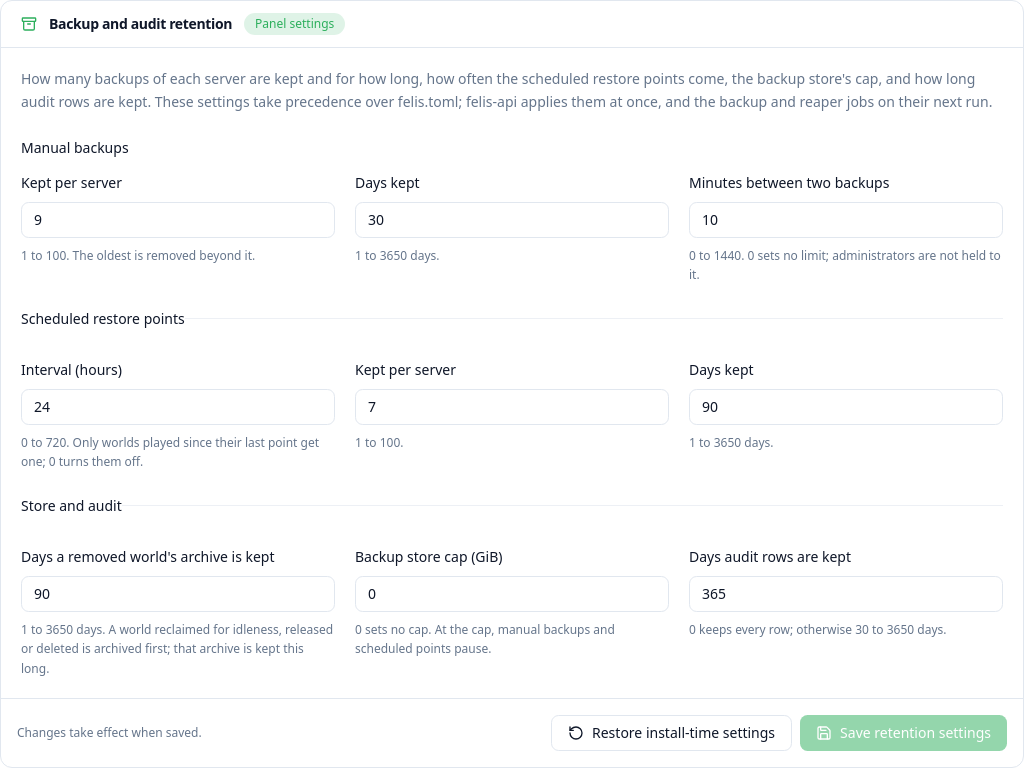
Test: retention settings › hands the retention back to felis.toml after confirming
Expected: the 1st number field labelled "Kept per server" holds "9", [21,202,335,238]
Click the button "Restore install-time settings" at (672, 733), box [551,715,792,751]
(page scrolled)
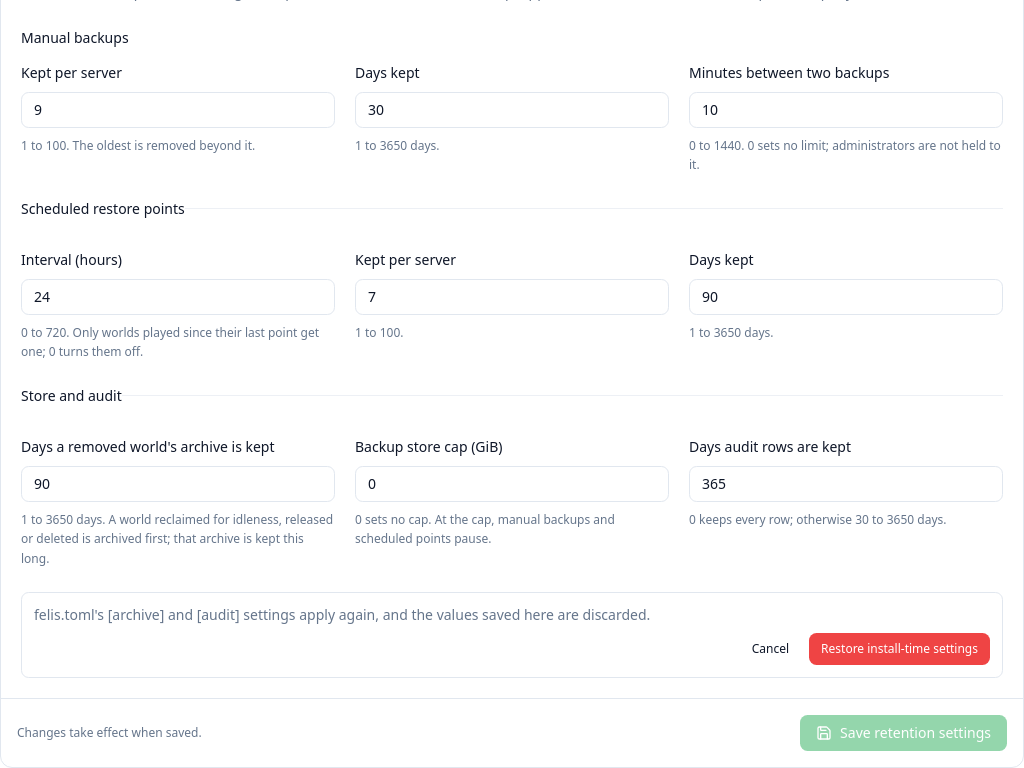
Click the button "Restore install-time settings" at (900, 649), box [809,633,990,665]
(page scrolled)
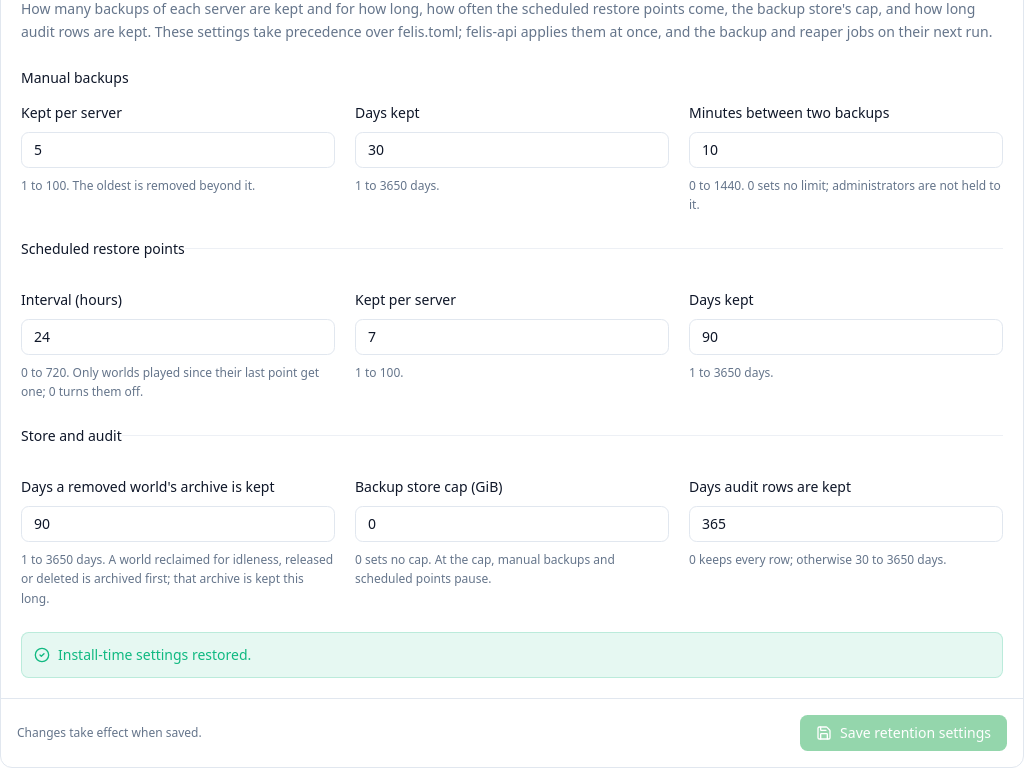
Expected: the text "Install-time settings restored." is shown, [58,645,251,665]
Expected: the 1st number field labelled "Kept per server" holds "5", [21,132,335,168]
